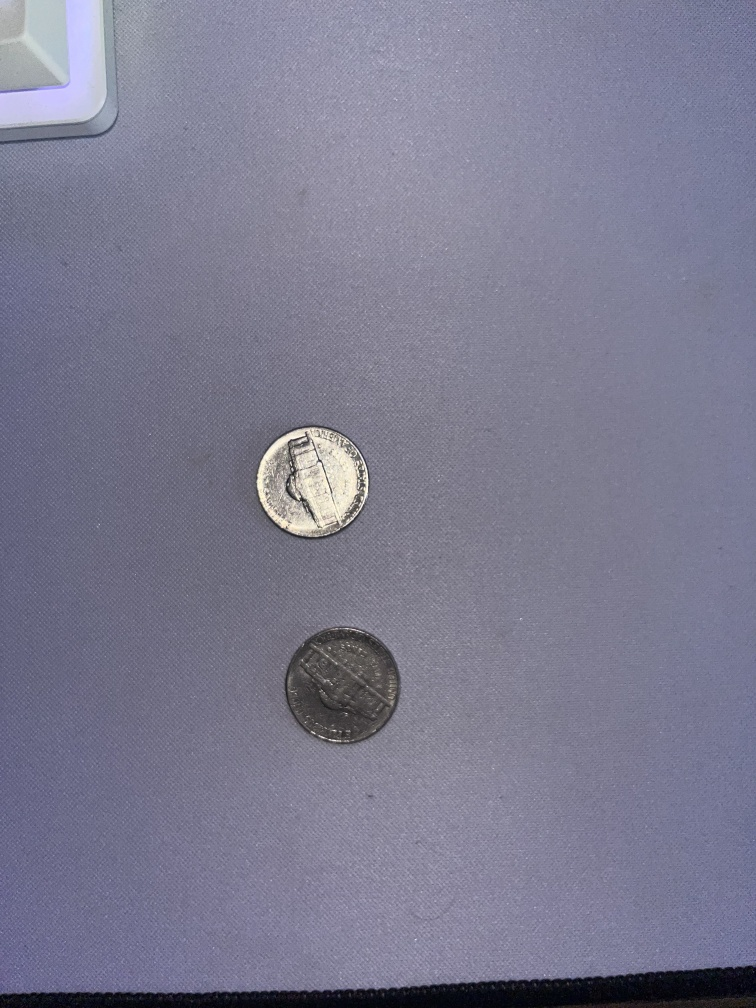nickel: (246, 420, 377, 553), (281, 622, 407, 750)
